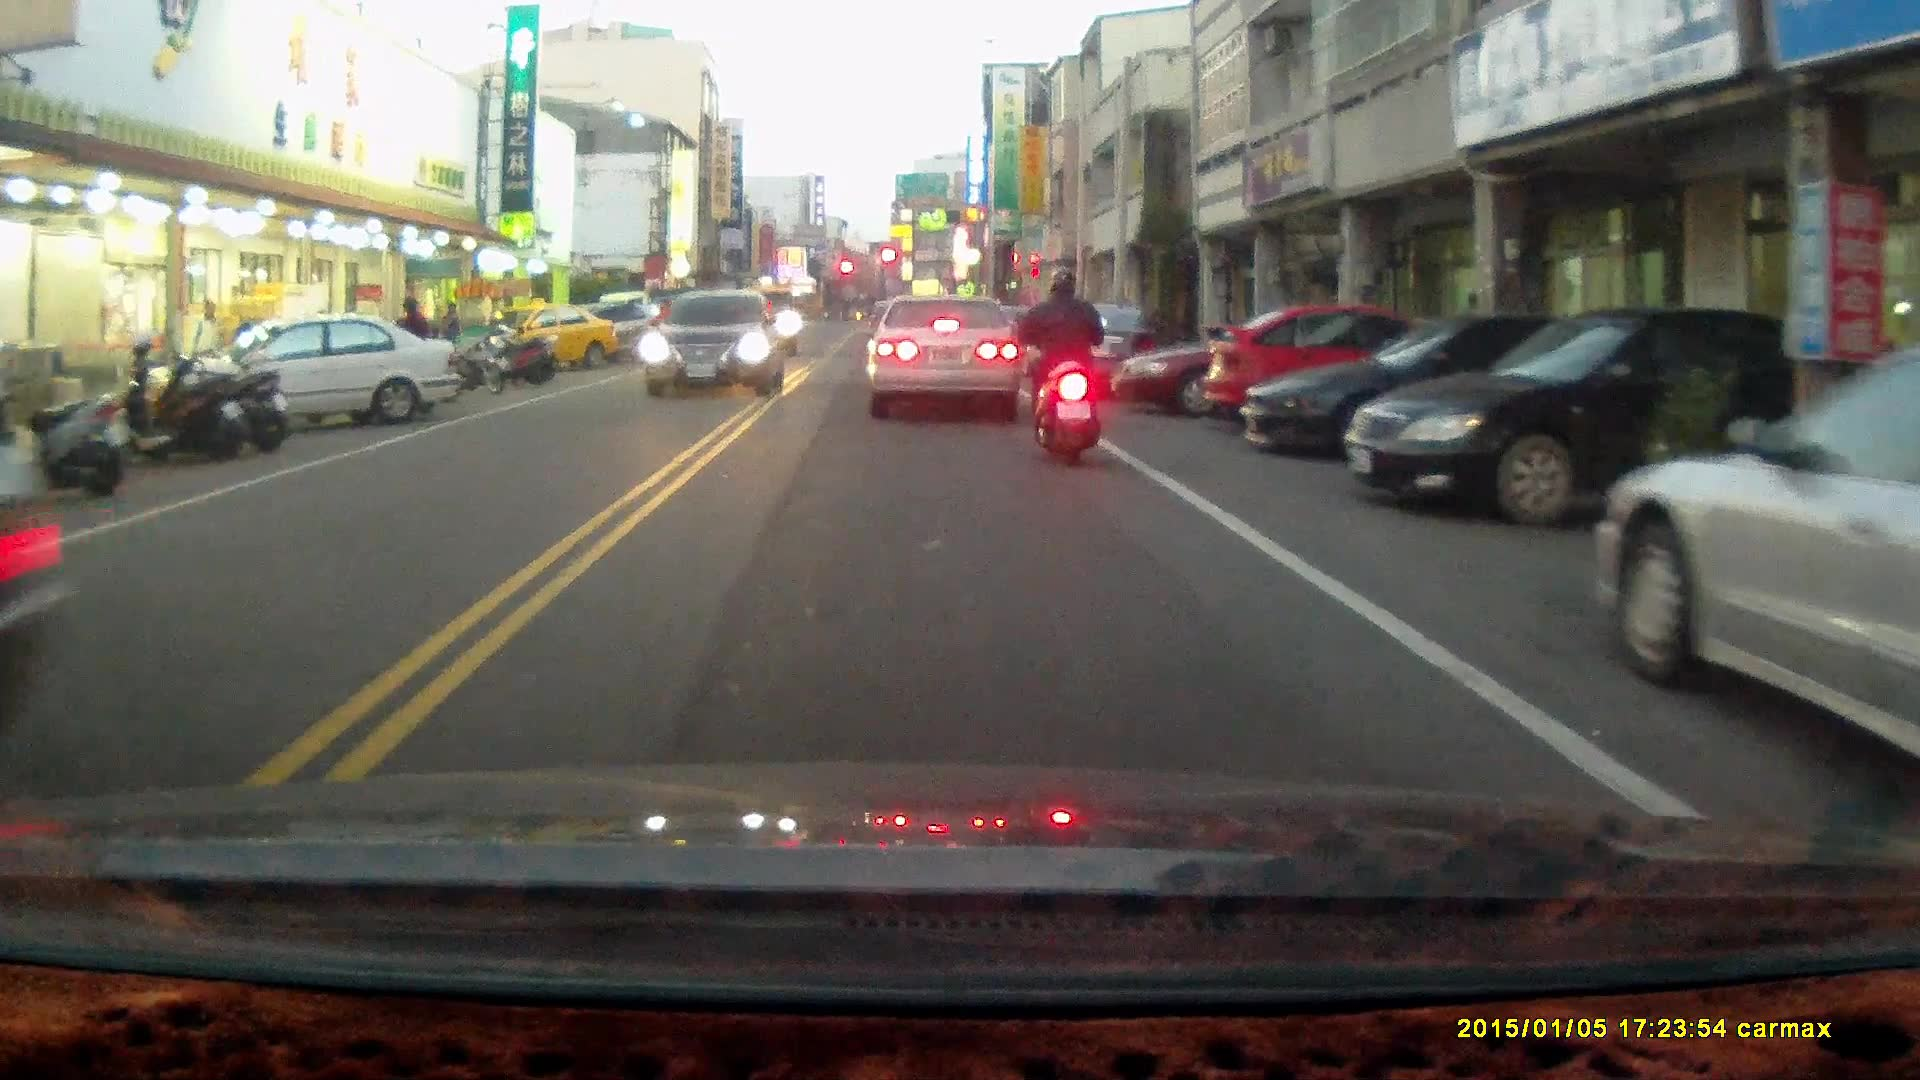pedestrian: (396, 294, 431, 391), (191, 299, 224, 395)
rider: (1012, 264, 1104, 471), (637, 292, 675, 367)
vehicle: (1592, 332, 1920, 818), (1342, 303, 1803, 528), (1242, 309, 1641, 464), (1198, 301, 1462, 435), (186, 308, 457, 437), (1113, 305, 1425, 415), (867, 294, 1026, 425), (642, 286, 786, 402), (503, 306, 624, 380)
